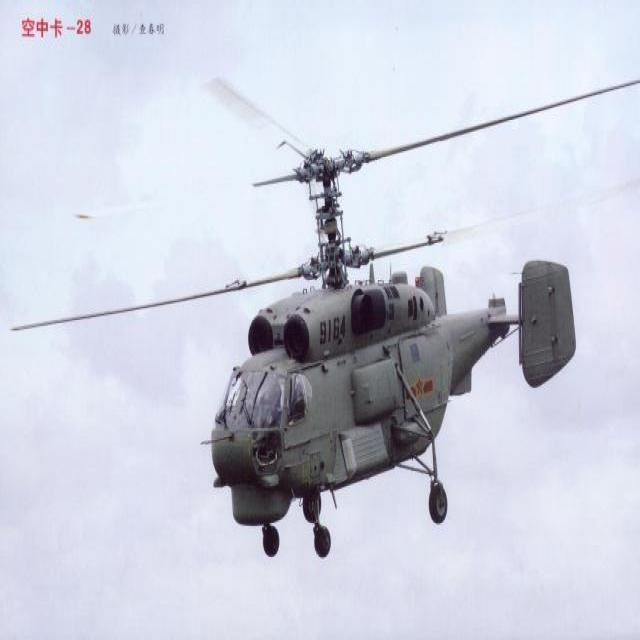MIL_HELO: (0, 81, 637, 560)
